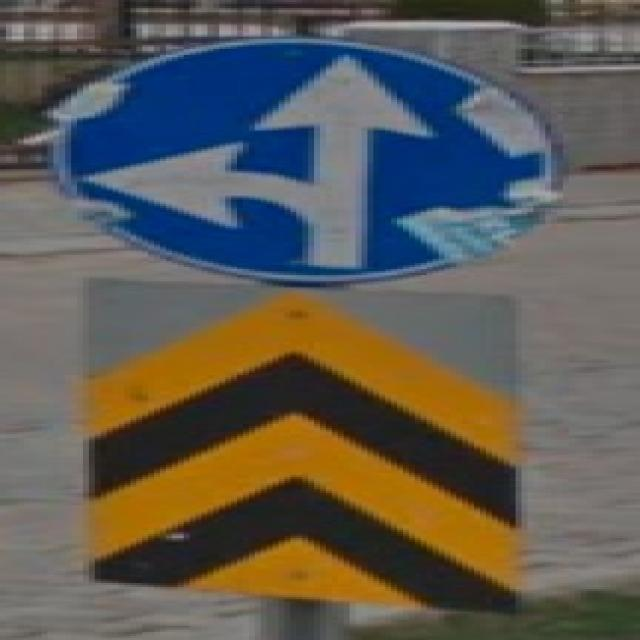Straight or Left: (54, 38, 558, 284)
